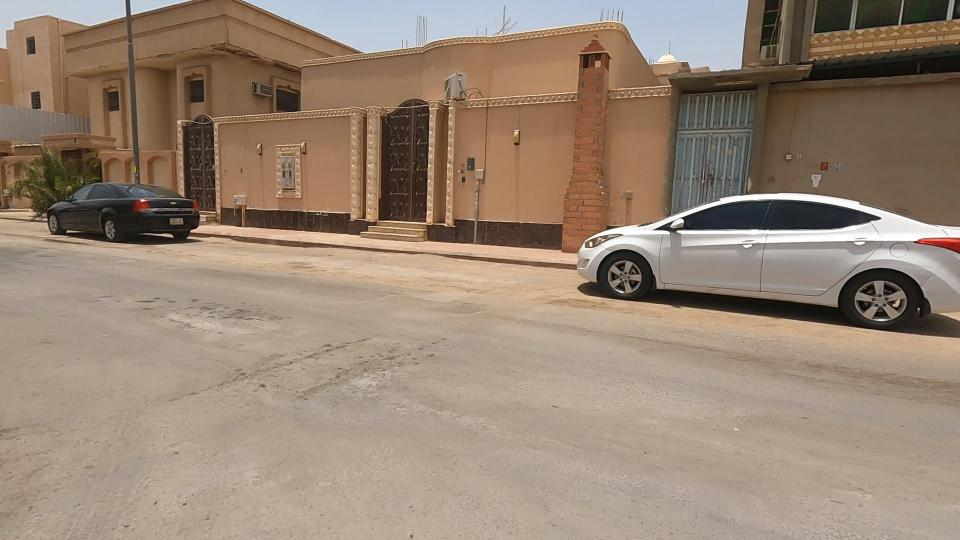POTHOLES: (213, 259, 478, 441), (61, 237, 307, 377)
